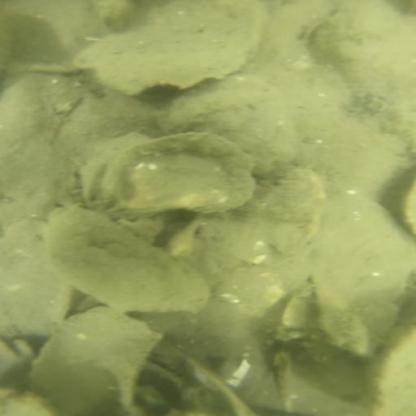Oyster-Closed: (72, 0, 269, 96)
Oyster-Open: (42, 203, 212, 315), (307, 192, 415, 358), (87, 130, 267, 221), (25, 306, 163, 415), (158, 75, 303, 174)
